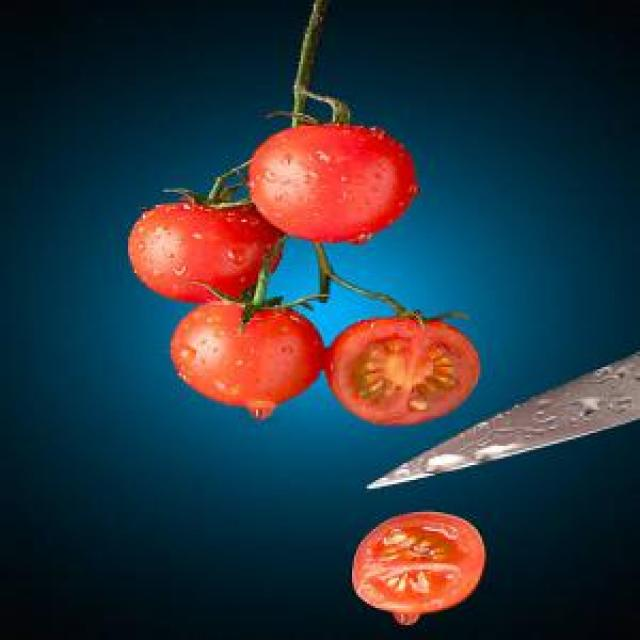knife: (363, 375, 638, 495)
